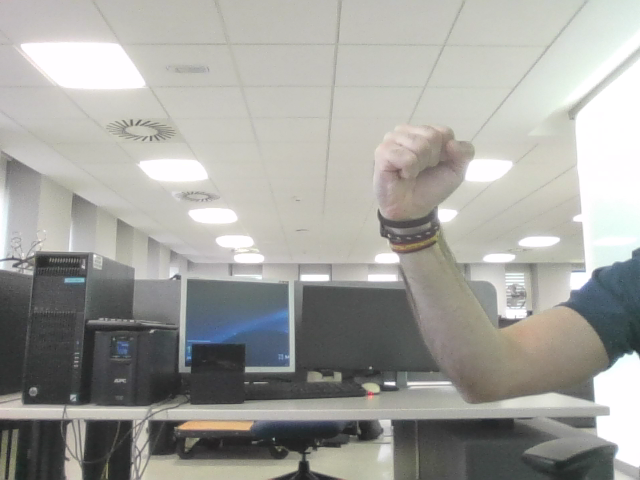Puño: (387, 131, 461, 192)
